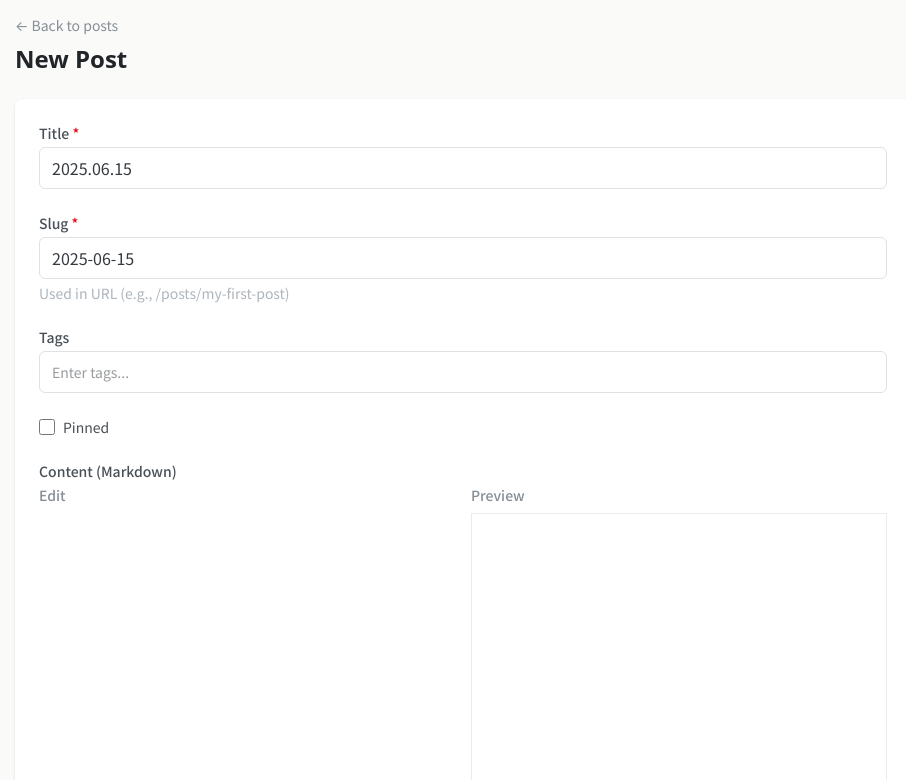
PostEdit › Form input › should allow entering tags
Note: Tags are added when separated by comma
Type "NewTag," into the field named "Tag input" at x=463, y=372, box top-left (52, 362), bottom-right (874, 382)
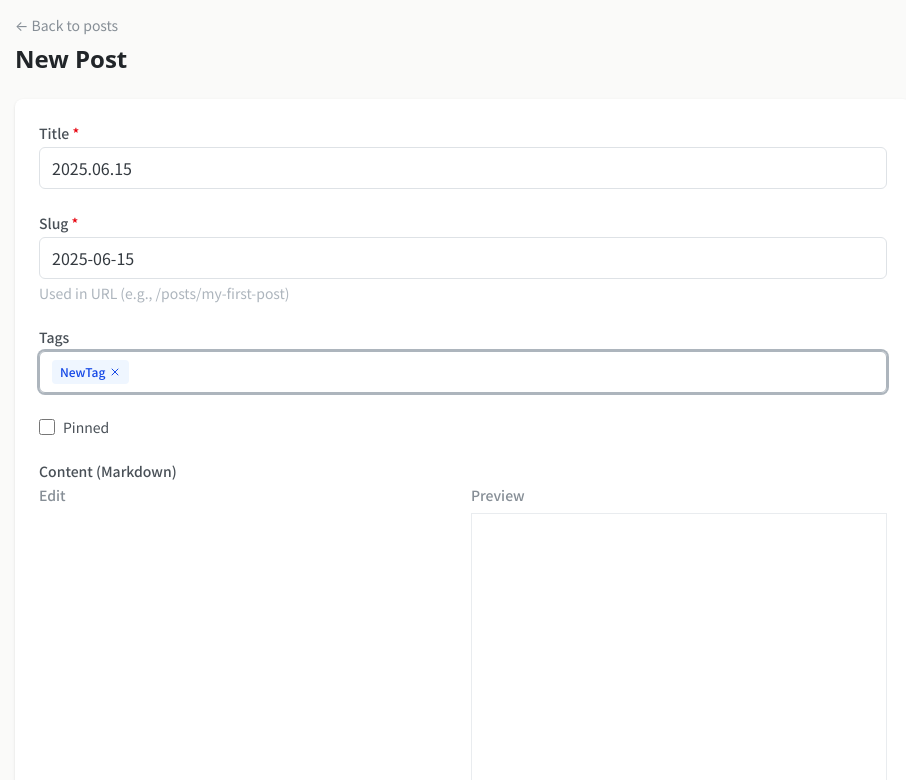
Now the text "NewTag" is shown, box top-left (52, 360), bottom-right (129, 384)
